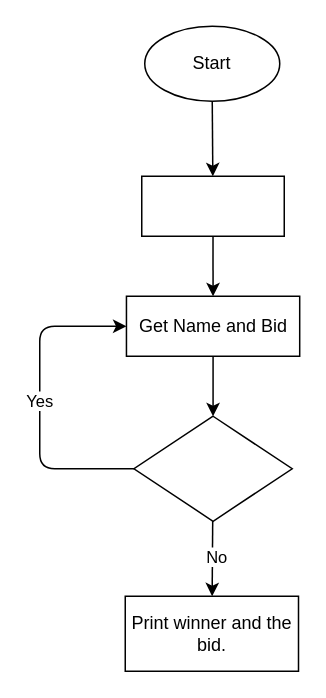
Image size: 326x698. Some labels were removed from this diagram. Here are the shapes that lost their labels. From the top down, the centre of each, then its label:
the point at 212,205: Greetings
the point at 212,468: Ohers players?
